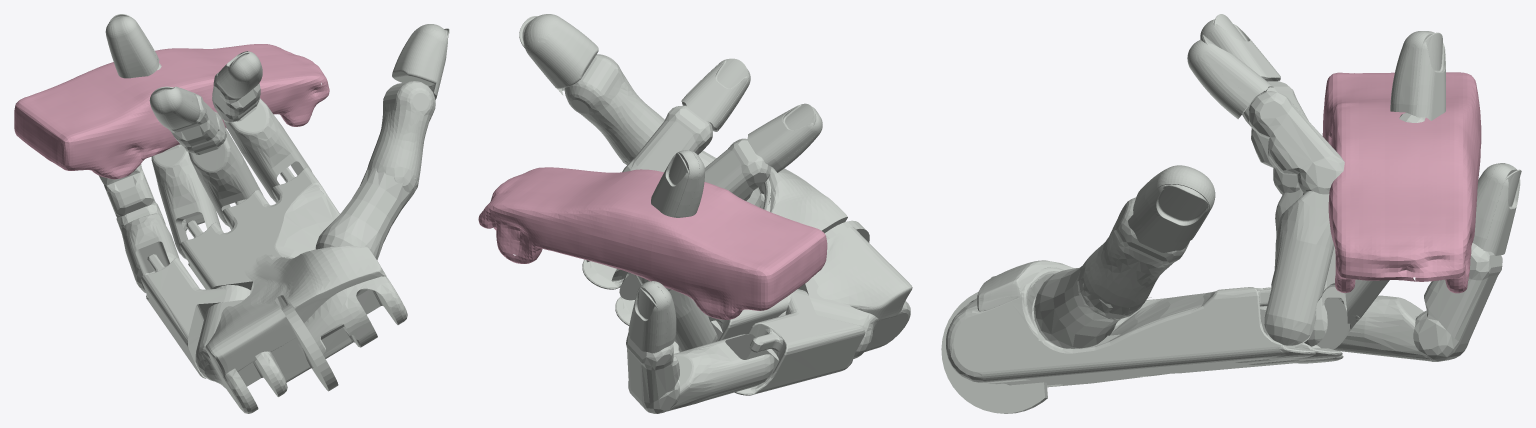
3 renders of one model, left to right at view 1: azimuth 30°, elevation 25°; view 2: azimuth 150°, elevation 25°; view 3: azimuth 270°, elevation 25°, orthographic. The views are drawn at different scales.
Visible parts, largest first — view 1: hand, world; view 2: hand, world; view 3: hand, world.
Boxes of the visible parts, box(x1,y1,x2,y2) form: hand: box(99, 14, 449, 413); world: box(14, 44, 329, 179); hand: box(519, 14, 912, 413); world: box(478, 167, 827, 319); hand: box(941, 14, 1521, 413); world: box(1322, 72, 1481, 293).
Size of the model in its own units: 0.1563 by 0.1326 by 0.1772.
